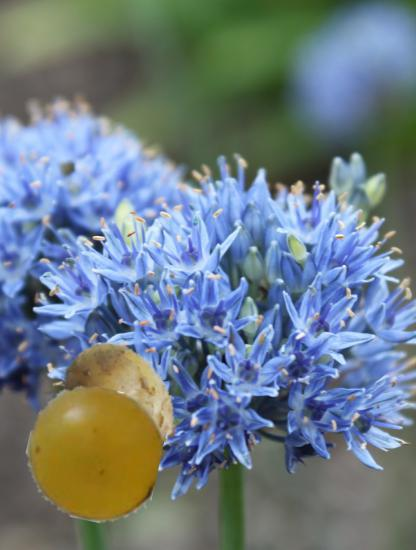Grape: (27, 387, 161, 521)
Potato: (53, 338, 185, 470)
